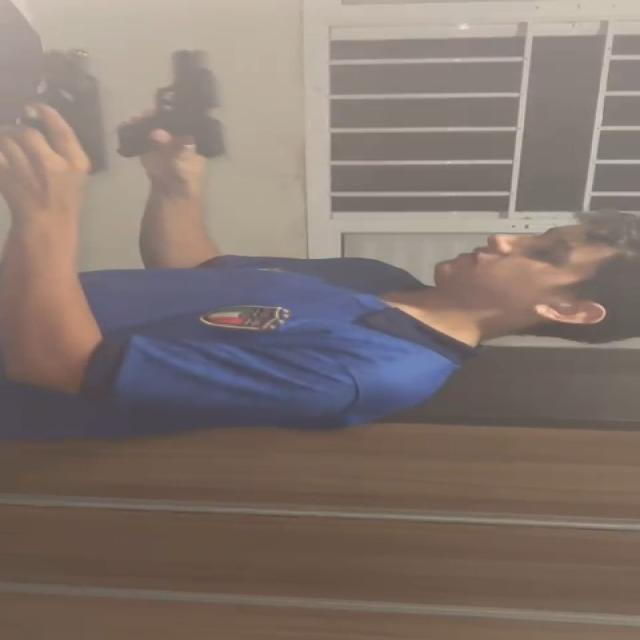gun: (120, 48, 233, 160)
